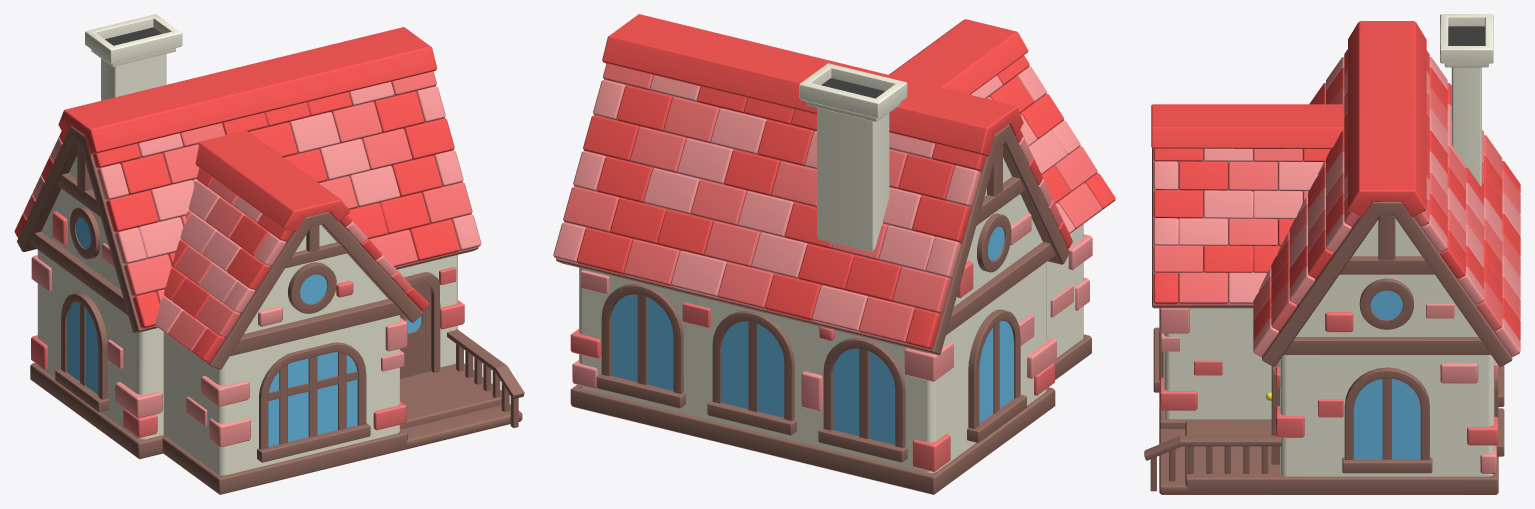
Rendered from Town_15_House_1.glb.
3 renders of one model, left to right at view 1: azimuth 30°, elevation 25°; view 2: azimuth 150°, elevation 25°; view 3: azimuth 270°, elevation 25°, orthographic. The views are drawn at different scales.
Visible parts, largest first — view 1: Town_15_House_1; view 2: Town_15_House_1; view 3: Town_15_House_1.
Part boxes in pixels (bbox=[...]): Town_15_House_1: bbox=[14, 14, 524, 494]; Town_15_House_1: bbox=[553, 14, 1115, 494]; Town_15_House_1: bbox=[1144, 14, 1520, 494].
Bounding box in the file's own units: 8.7 × 8.22 × 8.11.
1 material, 1 textured.
